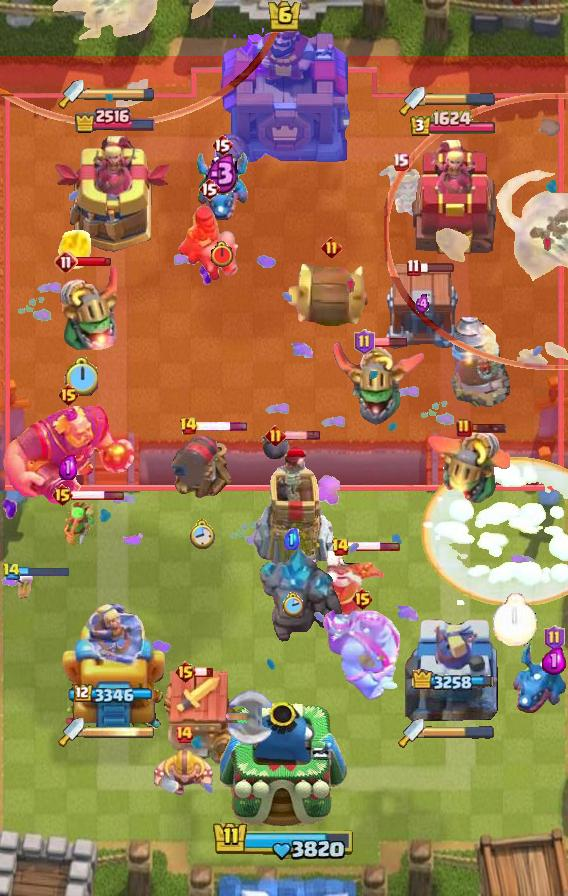bar: (52, 132, 176, 256), (59, 595, 169, 731), (405, 611, 501, 731), (409, 138, 497, 256)
bomb: (383, 264, 461, 350)
bomber-evolution: (372, 160, 427, 222)
cannoneer-tower: (258, 549, 346, 647)
clock: (212, 820, 356, 862)
electro-spirit: (204, 152, 240, 195), (542, 647, 566, 675), (59, 455, 77, 480), (284, 528, 300, 550), (415, 294, 430, 314)
elite-barbarian: (177, 204, 241, 284)
elixir: (494, 593, 539, 646), (64, 357, 98, 396), (189, 518, 216, 549), (210, 240, 234, 267), (282, 591, 303, 616)
elixir-collector: (315, 551, 387, 627)
emote: (347, 540, 401, 552), (71, 490, 125, 501), (195, 420, 248, 431), (18, 567, 70, 578), (469, 422, 507, 434), (76, 256, 112, 268), (419, 261, 455, 273), (372, 336, 408, 348), (283, 430, 320, 441), (194, 666, 214, 678)
giant-snowball: (58, 499, 102, 547)
goblin-giant: (153, 749, 215, 797)
graveyard: (512, 641, 568, 717), (195, 150, 249, 224)
heal-spirit: (11, 567, 39, 599)
king-tower: (211, 7, 357, 181), (220, 702, 348, 827)
king-tower-bar: (84, 87, 156, 101), (425, 93, 495, 107), (84, 725, 154, 739), (424, 726, 494, 740)
lava-hound: (321, 607, 403, 703)
lightning: (0, 405, 136, 505)
magic-archer: (450, 316, 510, 408)
night-witch: (331, 339, 427, 427), (424, 430, 526, 506), (40, 260, 122, 354)
phoenix-big: (420, 457, 567, 605)
royal-ghost: (384, 94, 568, 371), (0, 0, 282, 126)
royal-giant: (219, 689, 275, 747)
royal-giant-evolution: (167, 431, 235, 501)
selected: (409, 110, 497, 138), (72, 106, 155, 134), (413, 670, 496, 695), (73, 684, 154, 705)
sparky: (158, 670, 244, 768)
text: (54, 250, 78, 274), (353, 329, 375, 355), (56, 383, 79, 407), (51, 483, 74, 507), (351, 587, 374, 611), (175, 660, 198, 684), (543, 625, 564, 651), (211, 133, 233, 157), (198, 177, 220, 201), (321, 238, 343, 259), (265, 425, 286, 447), (178, 416, 198, 436), (174, 724, 194, 744), (331, 537, 350, 557), (3, 563, 22, 581), (391, 153, 408, 172), (456, 418, 472, 438), (406, 259, 421, 277)
the-log: (286, 262, 376, 330)
valkyrie: (57, 224, 95, 272)
zappy: (248, 433, 336, 577)
